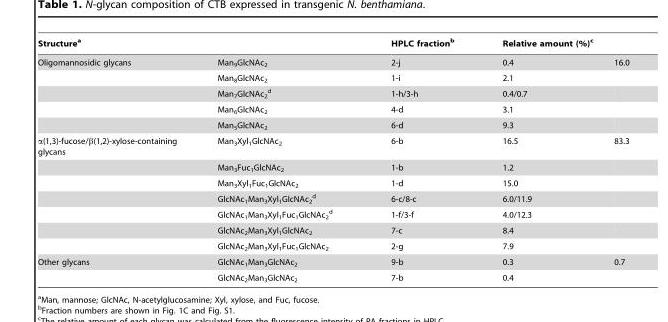table: (37, 37, 628, 282)
table column: (196, 37, 360, 282), (37, 37, 196, 282), (360, 37, 477, 282), (477, 37, 572, 282), (572, 37, 628, 282)
table column header: (37, 37, 628, 70)
table row: (37, 133, 628, 159), (37, 52, 628, 70), (37, 85, 628, 101), (37, 101, 628, 117), (37, 117, 628, 133), (37, 159, 628, 175), (37, 190, 628, 206), (37, 206, 628, 222), (37, 222, 628, 238), (37, 238, 628, 254), (37, 254, 628, 270), (37, 37, 628, 52), (37, 70, 628, 85), (37, 175, 628, 190), (37, 270, 628, 282)
table spanning cell: (37, 133, 196, 254), (37, 37, 360, 52), (37, 254, 196, 282), (360, 37, 477, 70), (477, 37, 628, 52)
